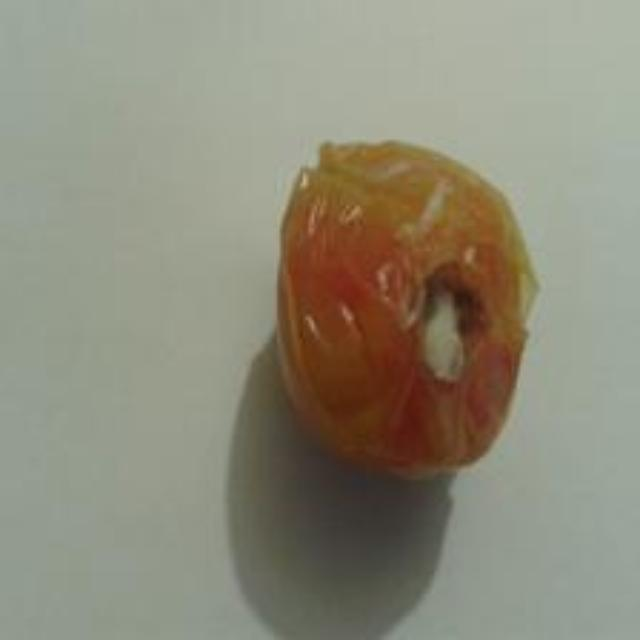defect: (269, 130, 544, 486)
